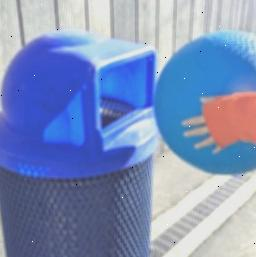algae: (149, 28, 256, 173)
